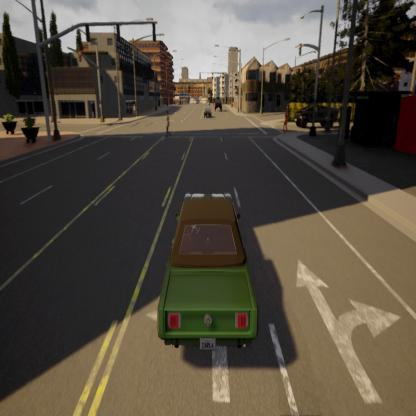Cars: (155, 174, 264, 373), (292, 98, 345, 131), (214, 88, 225, 116), (202, 101, 212, 127)
Pedestrian: (164, 102, 174, 146), (280, 102, 290, 141)
